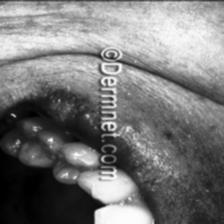Toxin: (28, 91, 80, 128)
